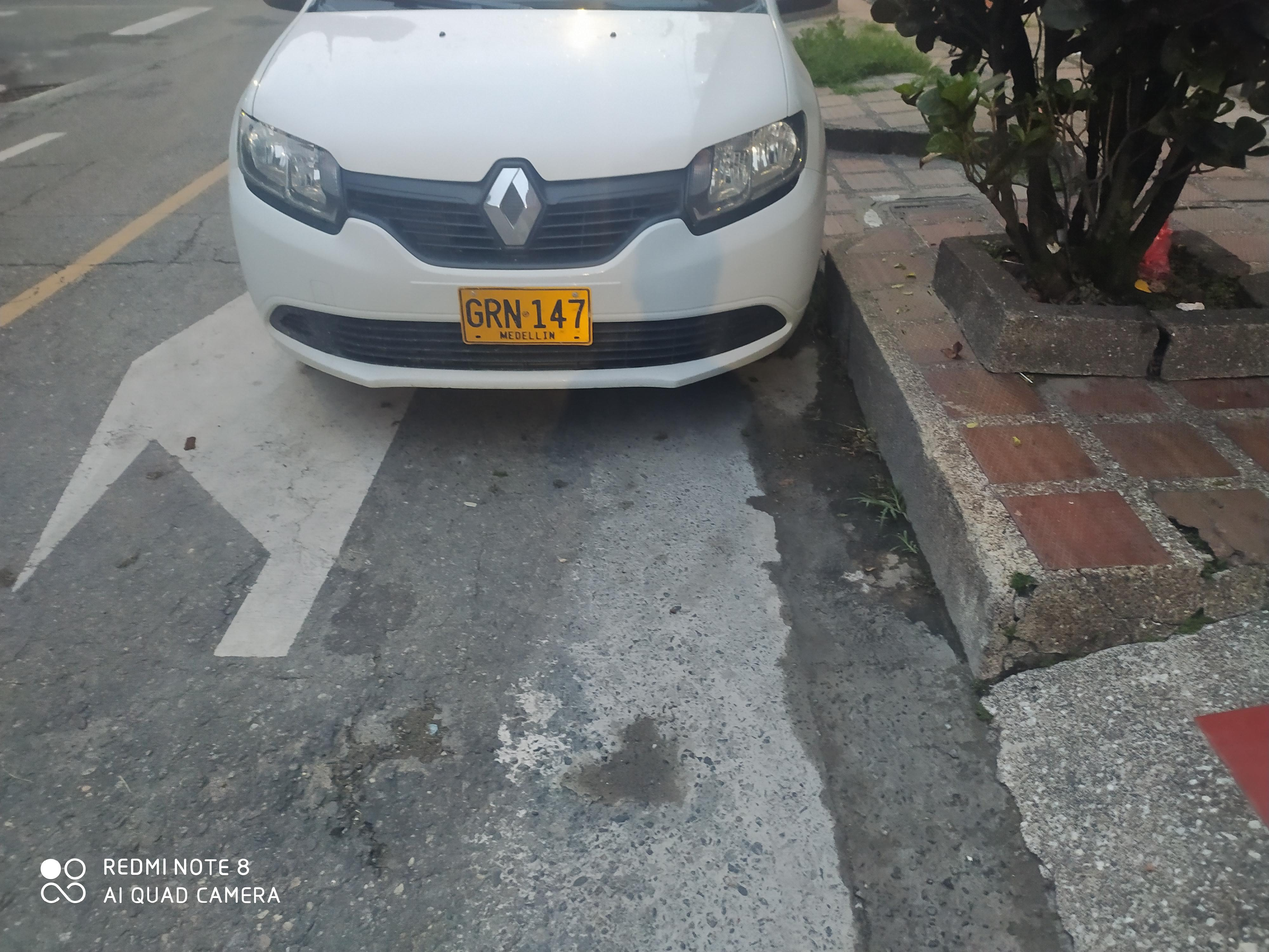placa: (446, 275, 613, 363)
